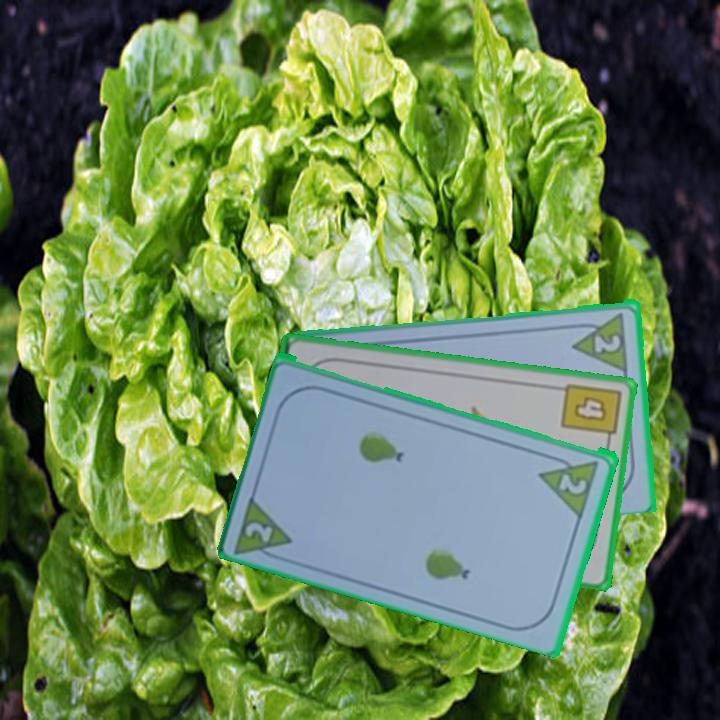2p: (568, 308, 632, 373), (556, 469, 590, 497), (241, 518, 276, 545)
4b: (557, 379, 624, 449)
